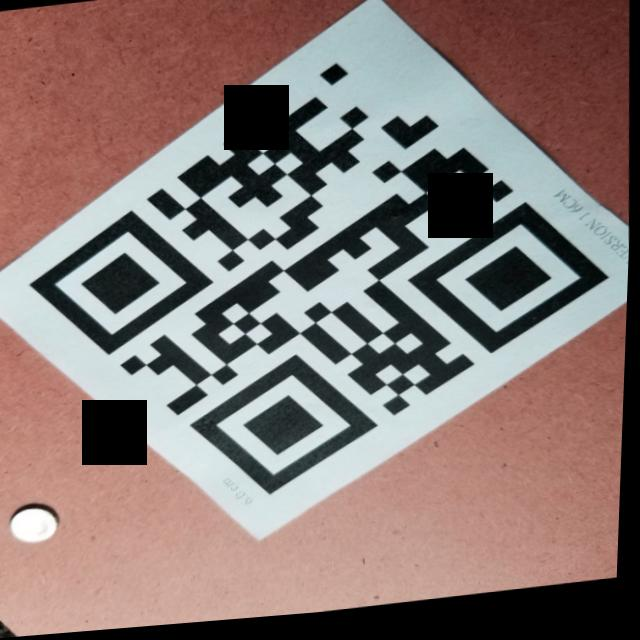QR_CODE: (6, 28, 631, 535)
